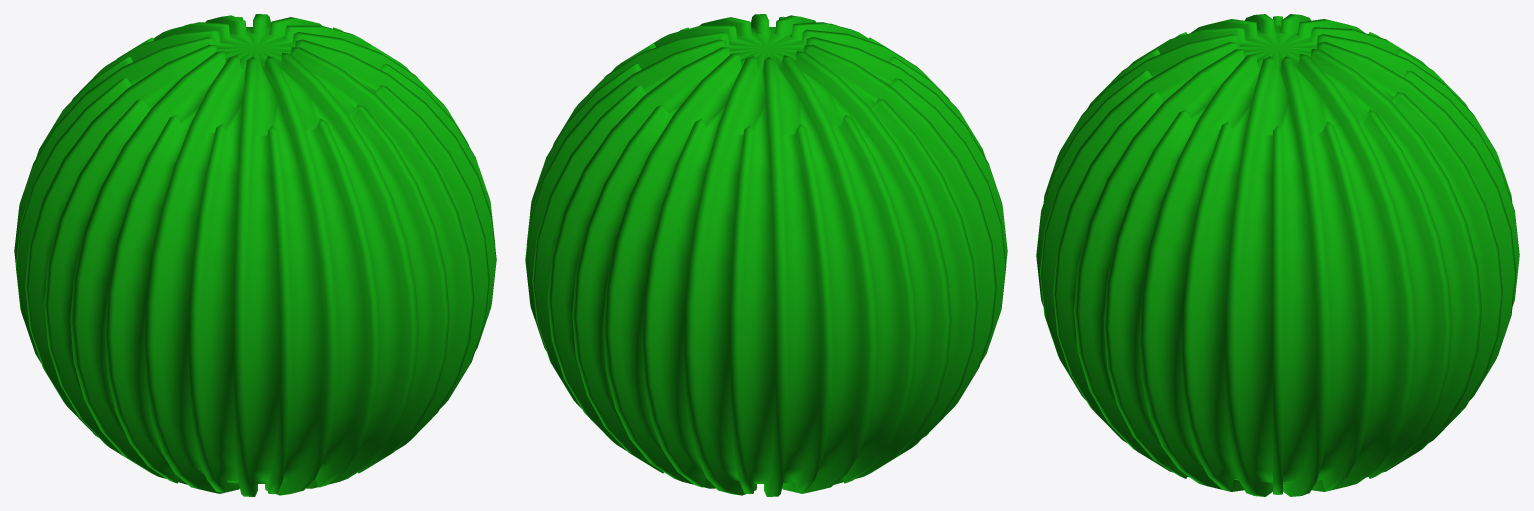
The model's file is green_stone_ribs.glb.
The picture shows the model from 3 angles, left to right: view 1: azimuth 30°, elevation 25°; view 2: azimuth 150°, elevation 25°; view 3: azimuth 270°, elevation 25°; orthographic projection.
Parts seen in each view (by area): view 1: Sphere.001; view 2: Sphere.001; view 3: Sphere.001.
Boxes of the visible parts, left/top/right/bottom form: Sphere.001: left=14, top=14, right=496, bottom=496; Sphere.001: left=525, top=14, right=1007, bottom=496; Sphere.001: left=1036, top=14, right=1519, bottom=496.
Bounding box in the file's own units: 2.11 × 2.08 × 2.11.
